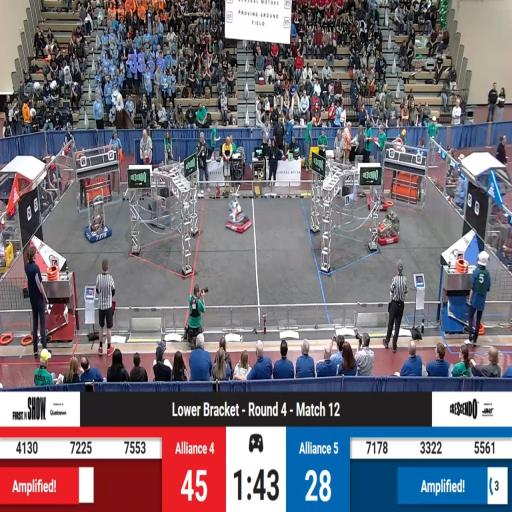robot: (84, 205, 110, 242), (225, 198, 250, 235), (378, 212, 402, 246), (371, 197, 391, 211)
